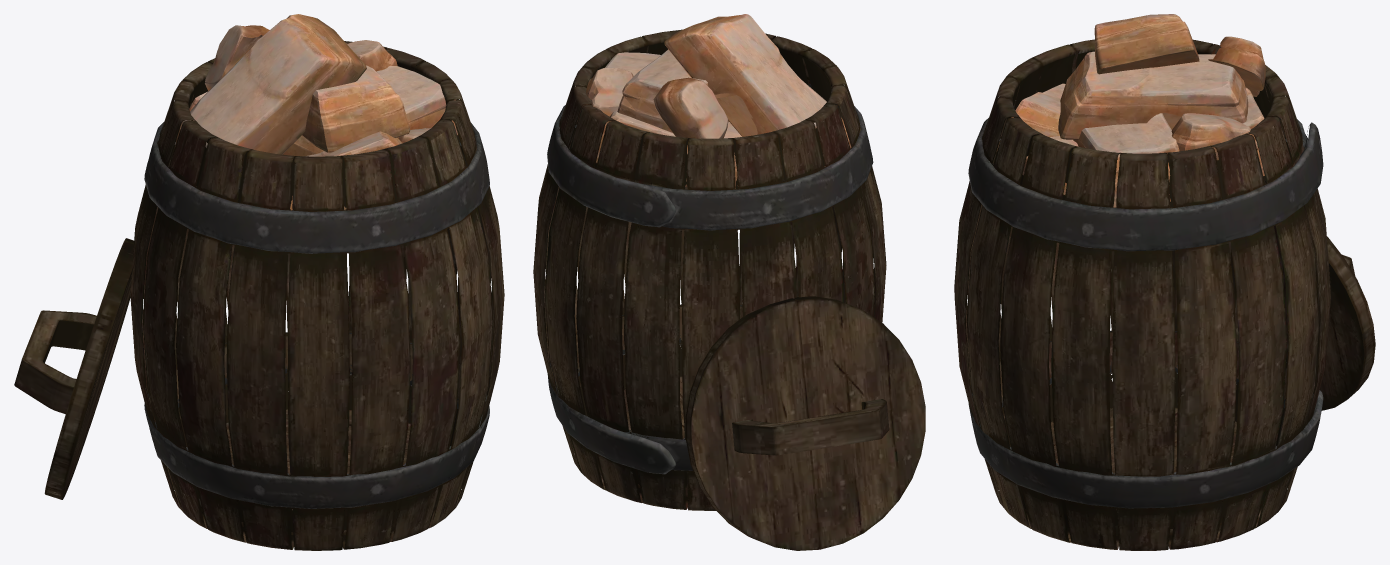
3 renders of one model, left to right at view 1: azimuth 30°, elevation 25°; view 2: azimuth 150°, elevation 25°; view 3: azimuth 270°, elevation 25°, orthographic. The views are drawn at different scales.
Parts seen in each view (by area): view 1: SM_Dec_Barrel_of_Sandstone_LOD0; view 2: SM_Dec_Barrel_of_Sandstone_LOD0; view 3: SM_Dec_Barrel_of_Sandstone_LOD0.
Part boxes in pixels (bbox=[...]): SM_Dec_Barrel_of_Sandstone_LOD0: bbox=[14, 14, 504, 550]; SM_Dec_Barrel_of_Sandstone_LOD0: bbox=[533, 14, 925, 550]; SM_Dec_Barrel_of_Sandstone_LOD0: bbox=[954, 14, 1375, 550].
Size of the model in its own units: 1.02 by 1.12 by 0.9052.
Materials: 2 (2 with a texture image).
